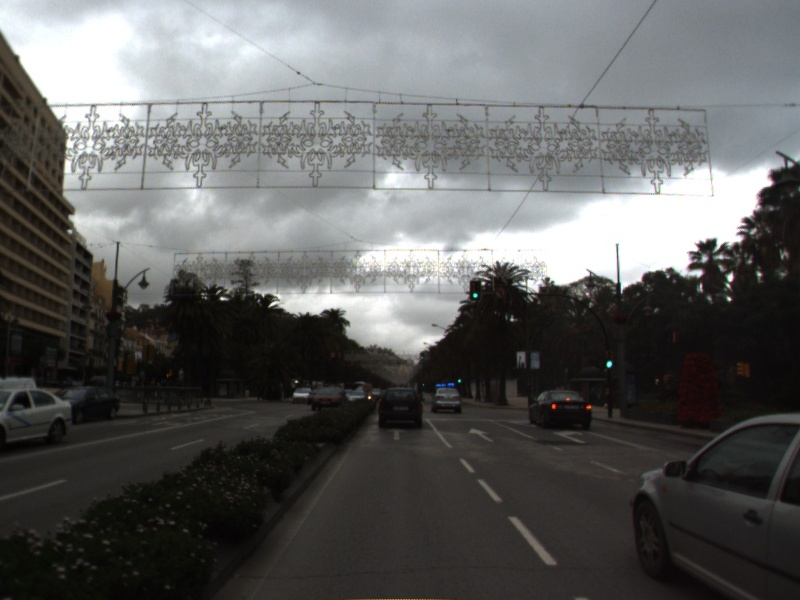RIGHT: (550, 427, 588, 445)
STRAIGHT: (466, 426, 496, 444), (384, 427, 410, 442)
